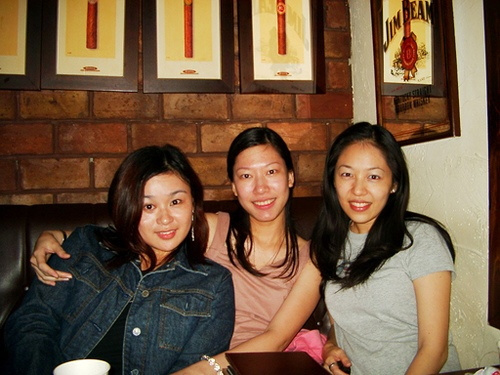head: (123, 160, 197, 265), (225, 121, 299, 225), (329, 123, 400, 226)
person: (1, 143, 237, 375), (304, 116, 456, 375), (200, 119, 331, 375)
